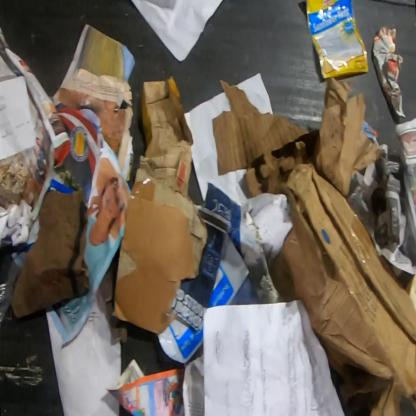cardboard: (212, 77, 415, 415), (111, 167, 208, 334)
soft_plastic: (305, 0, 369, 80)
